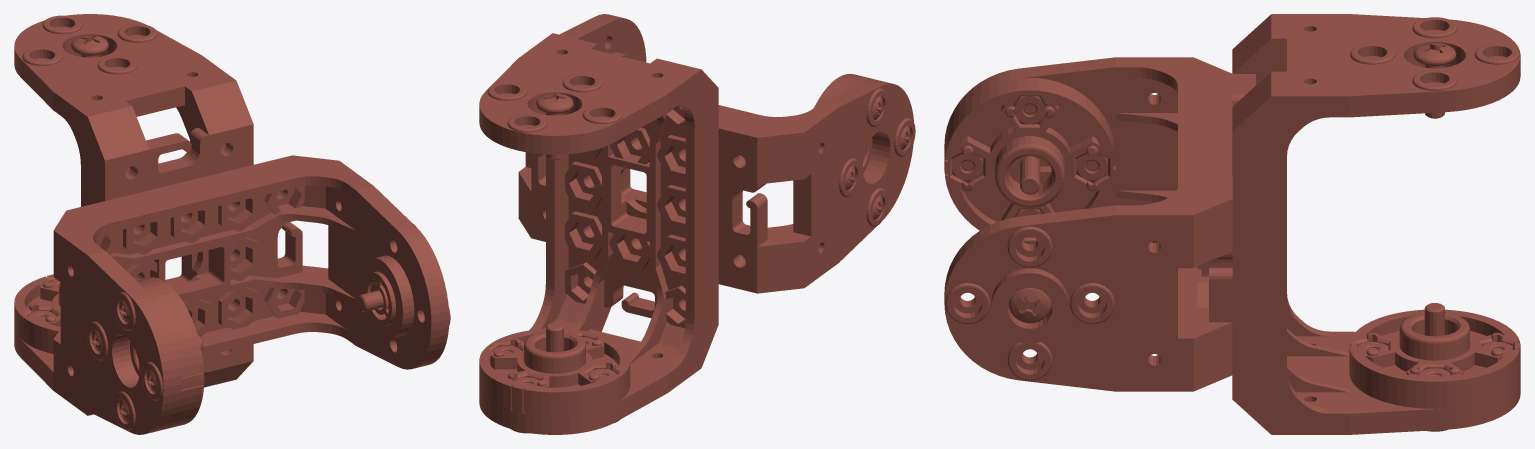
File: coxa_fixed.fbx
3 views of the same model, side by side, from view 1: azimuth 30°, elevation 25°; view 2: azimuth 150°, elevation 25°; view 3: azimuth 270°, elevation 25° (orthographic). The views are drawn at different scales.
Parts seen in each view (by area): view 1: coxa_fixed; view 2: coxa_fixed; view 3: coxa_fixed.
Boxes of the visible parts, x1,y1,x2,y2 form: coxa_fixed: (14,14,450,434); coxa_fixed: (479,14,915,434); coxa_fixed: (944,14,1520,434).
Size of the model in its own units: 5.01 by 4.96 by 7.4.
